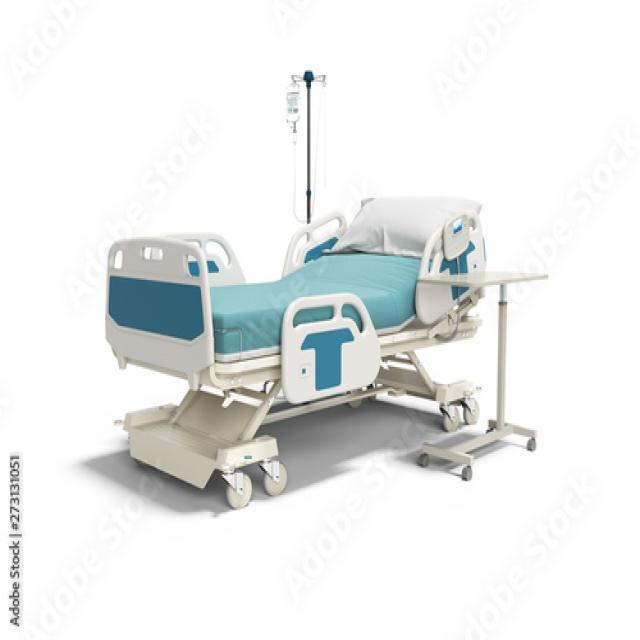Saline Stand: (273, 59, 344, 304)
bed: (104, 193, 488, 508)
tools_table: (419, 255, 587, 507)
